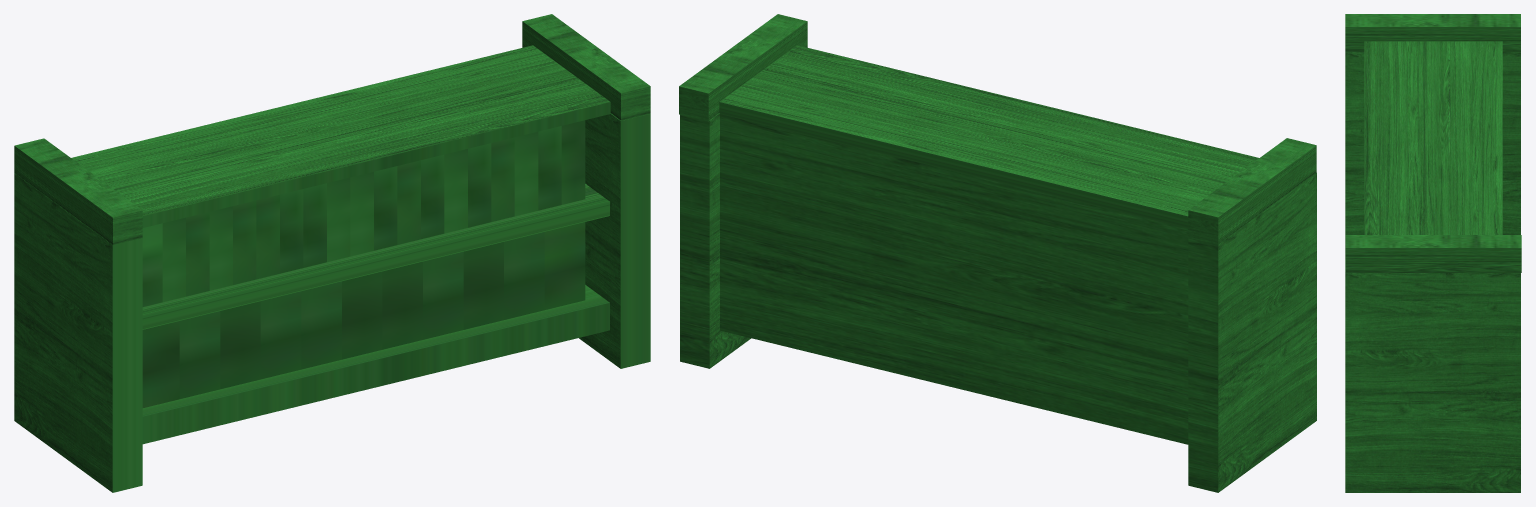
The model's file is Libreria3.obj.
The picture shows the model from 3 angles, left to right: view 1: azimuth 30°, elevation 25°; view 2: azimuth 150°, elevation 25°; view 3: azimuth 270°, elevation 25°; orthographic projection. The views are drawn at different scales.
Parts seen in each view (by area): view 1: Libreria:polySurface13polySurface11grouppolySurface15polySurface, Libreria:polySurface14polySurface13polySurface11group, Libreria:polySurface13polySurface11grouppolySurface16polySurface, Libreria:pasted__pCube1group3, Libreria:pasted__pasted__pCube1pasted__group3group4, Libreria:pCube1, Libreria:pasted__pCube1group1; view 2: Libreria:polySurface13polySurface11grouppolySurface15polySurface, Libreria:pasted__pCube1group3, Libreria:pasted__pasted__pCube1pasted__group3group4, Libreria:pCube1, Libreria:pasted__pCube1group1; view 3: Libreria:pasted__pasted__pCube1pasted__group3group4, Libreria:polySurface13polySurface11grouppolySurface15polySurface, Libreria:pasted__pCube1group3, Libreria:pasted__pCube1group1, Libreria:pCube1.
Boxes of the visible parts, x1,y1,x2,y2 form: Libreria:polySurface13polySurface11grouppolySurface15polySurface: (71,45,610,444); Libreria:polySurface14polySurface13polySurface11group: (142,120,585,306); Libreria:polySurface13polySurface11grouppolySurface16polySurface: (142,222,585,407); Libreria:pasted__pCube1group3: (14,173,142,492); Libreria:pasted__pasted__pCube1pasted__group3group4: (579,113,650,368); Libreria:pCube1: (14,138,142,244); Libreria:pasted__pCube1group1: (522,14,650,120); Libreria:polySurface13polySurface11grouppolySurface15polySurface: (719,45,1258,444); Libreria:pasted__pCube1group3: (1188,173,1316,492); Libreria:pasted__pasted__pCube1pasted__group3group4: (680,113,750,368); Libreria:pCube1: (1188,138,1316,244); Libreria:pasted__pCube1group1: (679,14,807,121); Libreria:pasted__pasted__pCube1pasted__group3group4: (1345,259,1520,492); Libreria:polySurface13polySurface11grouppolySurface15polySurface: (1364,41,1502,234); Libreria:pasted__pCube1group3: (1345,52,1520,258); Libreria:pasted__pCube1group1: (1345,235,1521,272); Libreria:pCube1: (1345,14,1520,51).
Size of the model in its own units: 3 by 1.47 by 0.9563.
